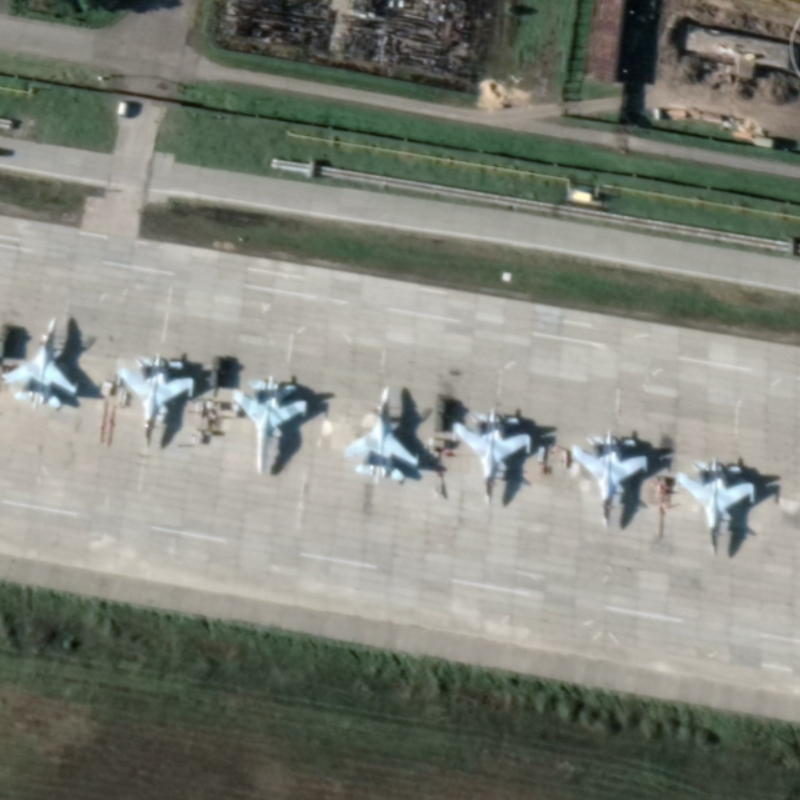A1: (673, 456, 758, 561), (113, 351, 198, 456), (449, 406, 534, 508), (228, 373, 311, 477), (568, 428, 651, 532), (339, 383, 421, 488), (1, 313, 82, 412)
